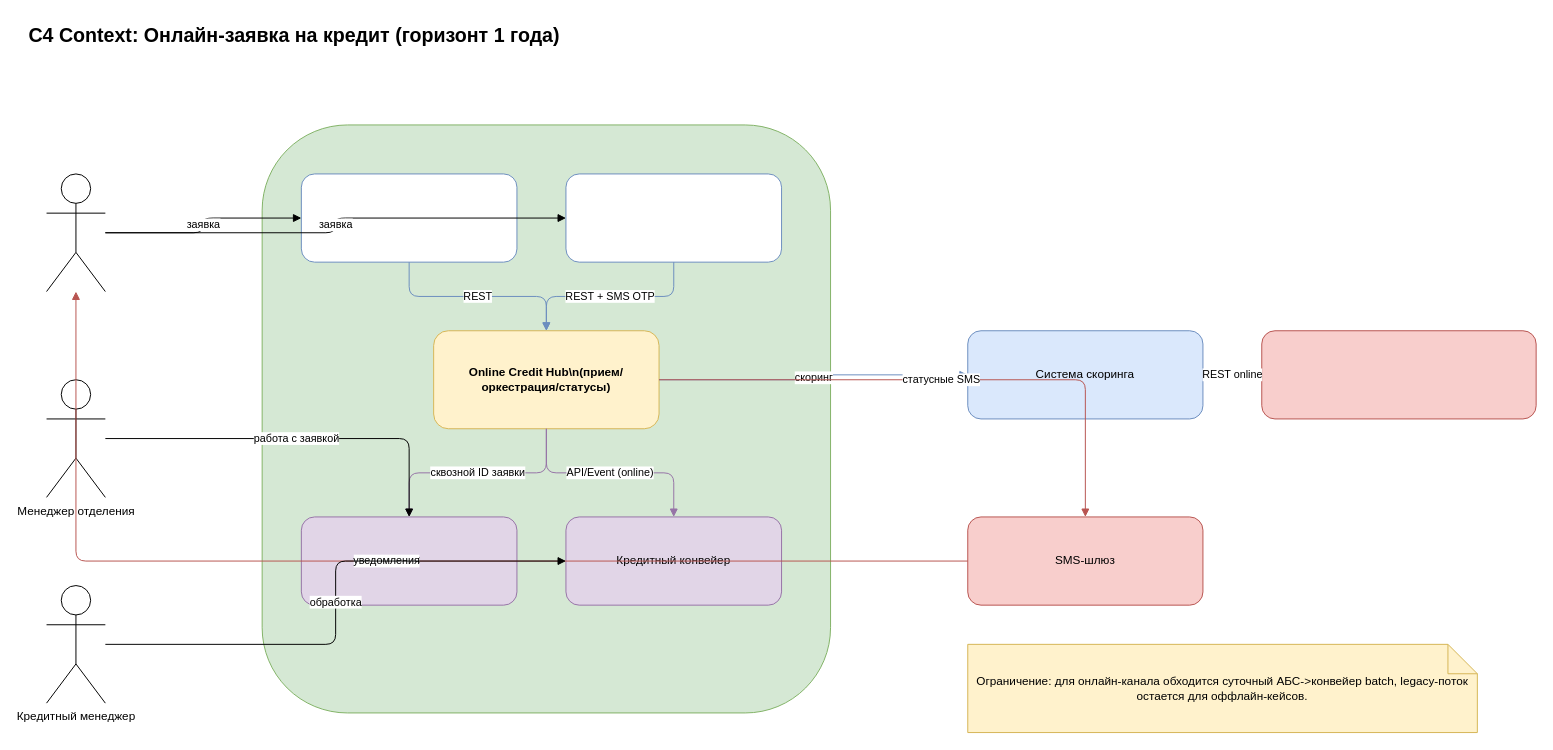
The diagram is 1553 pixels wide and 750 high, and some of its shapes have lost their labels. The centre of each missing label's shape, as x and y in pixels:
Бюро кредитных историй (БКИ): the point at 1398,374
Интернет-банк: the point at 673,217
Клиент: the point at 75,232
Сайт банка: the point at 408,217
